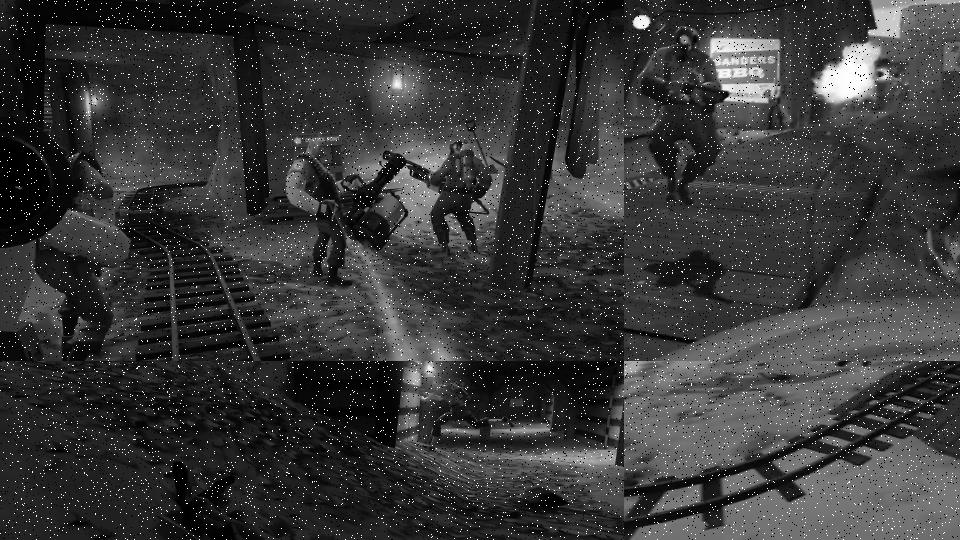Enemy: (149, 456, 526, 540), (0, 120, 129, 361), (285, 139, 408, 287), (633, 25, 728, 207), (383, 139, 493, 258), (417, 375, 514, 452), (764, 78, 793, 130)
